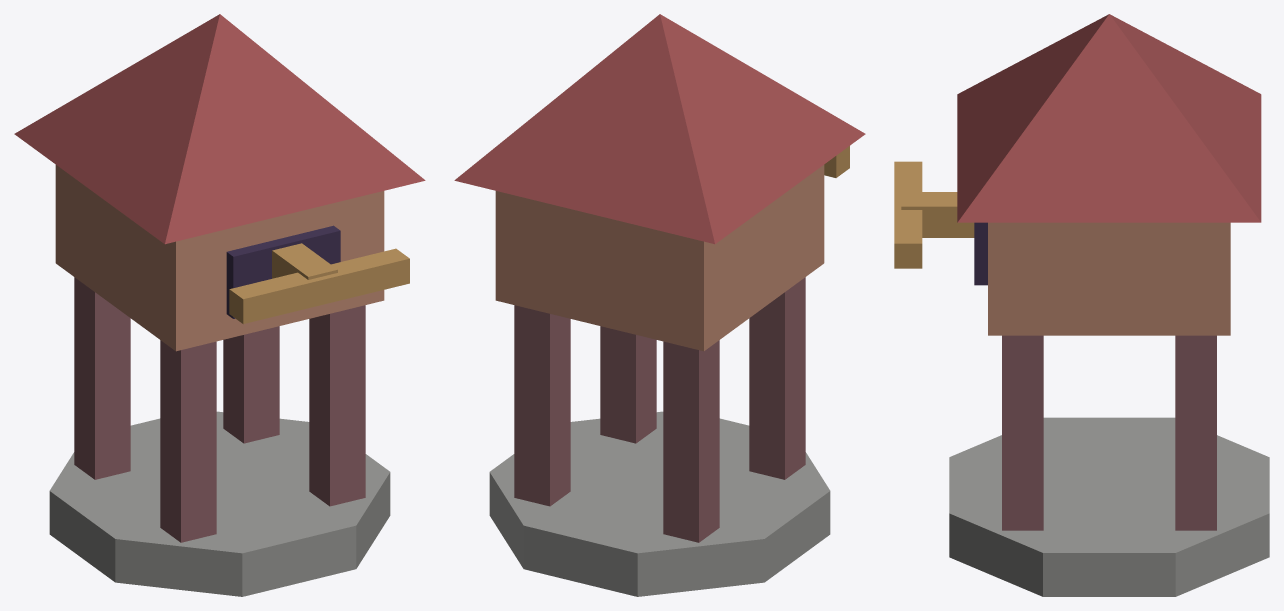
The model's file is loft.glb.
3 renders of one model, left to right at view 1: azimuth 30°, elevation 25°; view 2: azimuth 150°, elevation 25°; view 3: azimuth 270°, elevation 25°, orthographic.
Visible parts, largest first — view 1: Roof, Foot, Cabin, Leg2, Leg3, Leg0, Bow, Leg1, Slit, Stock; view 2: Roof, Foot, Cabin, Leg0, Leg1, Leg2, Leg3; view 3: Roof, Foot, Cabin, Leg1, Leg3, Bow, Stock, Slit.
Boxes of the visible parts, <box> form: Roof: <box>14,14,425,244</box>; Foot: <box>49,411,390,596</box>; Cabin: <box>55,165,384,351</box>; Leg2: <box>160,340,216,542</box>; Leg3: <box>309,305,365,506</box>; Leg0: <box>74,277,130,479</box>; Bow: <box>229,248,409,323</box>; Leg1: <box>223,326,279,443</box>; Slit: <box>226,225,340,318</box>; Stock: <box>272,243,337,279</box>; Roof: <box>454,14,865,244</box>; Foot: <box>489,411,830,596</box>; Cabin: <box>495,165,824,351</box>; Leg0: <box>663,340,719,542</box>; Leg1: <box>514,305,570,506</box>; Leg2: <box>749,277,805,479</box>; Leg3: <box>600,326,656,443</box>; Roof: <box>957,14,1261,222</box>; Foot: <box>949,417,1269,596</box>; Cabin: <box>988,222,1230,335</box>; Leg1: <box>1175,335,1216,530</box>; Leg3: <box>1002,335,1043,530</box>; Bow: <box>894,161,922,268</box>; Stock: <box>901,192,974,237</box>; Slit: <box>974,222,987,285</box>.
Bounding box in the file's own units: 0.9239 × 1.64 × 1.08.
